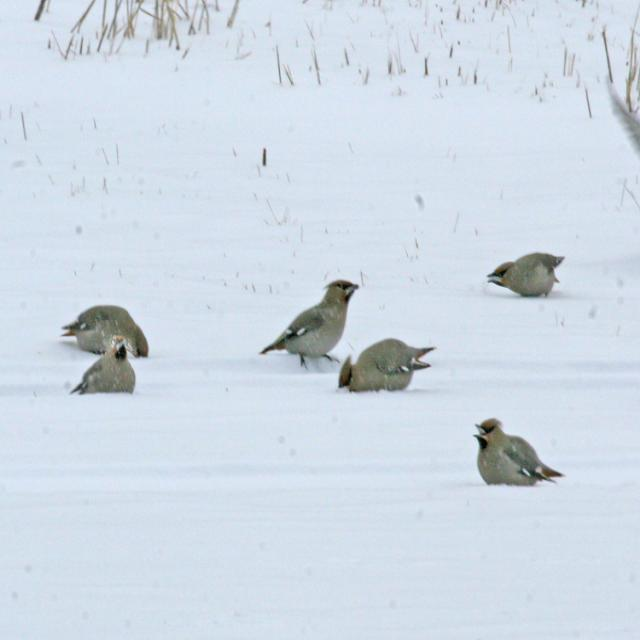bird: (255, 282, 365, 378), (60, 304, 149, 399), (470, 418, 568, 491), (336, 339, 438, 395), (483, 254, 567, 303)
